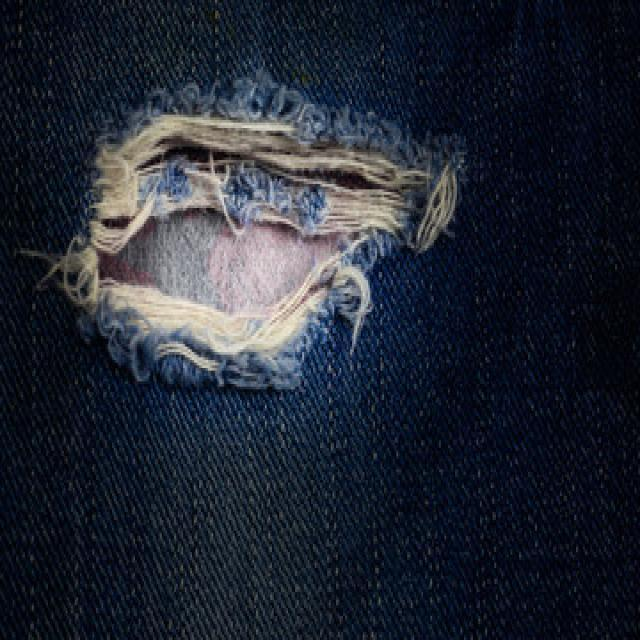Hole: (48, 74, 463, 390)
